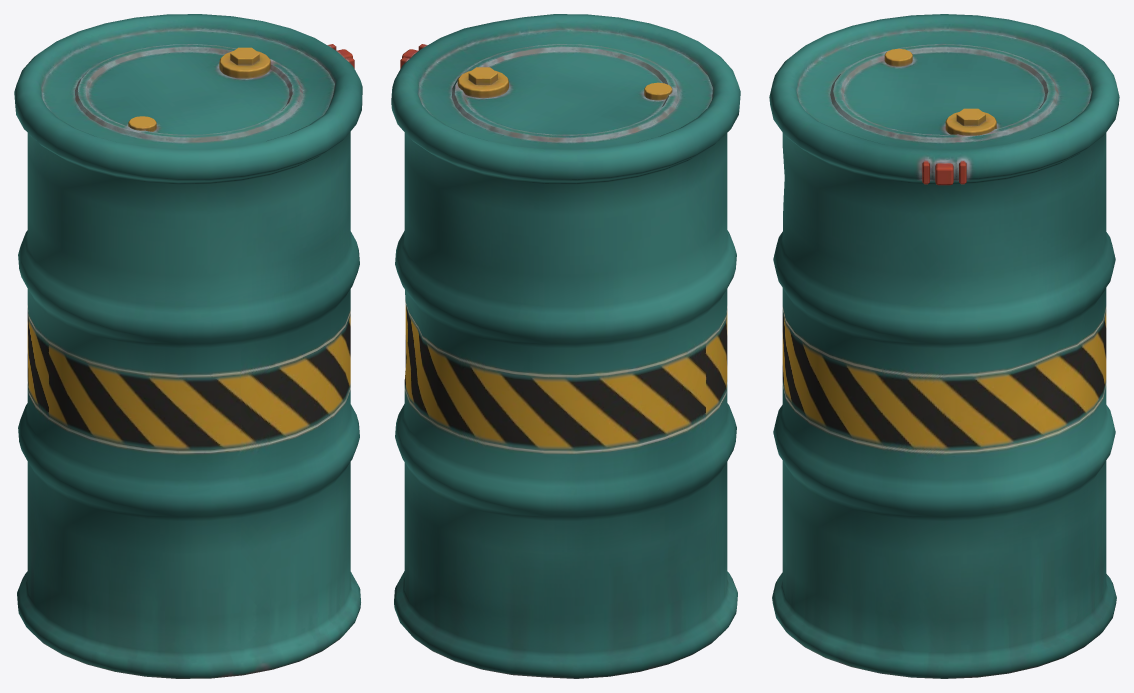
Rendered from barrel.glb.
3 renders of one model, left to right at view 1: azimuth 30°, elevation 25°; view 2: azimuth 150°, elevation 25°; view 3: azimuth 270°, elevation 25°, orthographic.
Visible parts, largest first — view 1: Barrel; view 2: Barrel; view 3: Barrel.
Boxes of the visible parts, box(x1,y1,x2,y2) form: Barrel: box(14, 14, 362, 678); Barrel: box(391, 14, 740, 678); Barrel: box(769, 14, 1119, 678).
Size of the model in its own units: 0.4725 by 0.765 by 0.459.
Materials: 1 (1 with a texture image).
